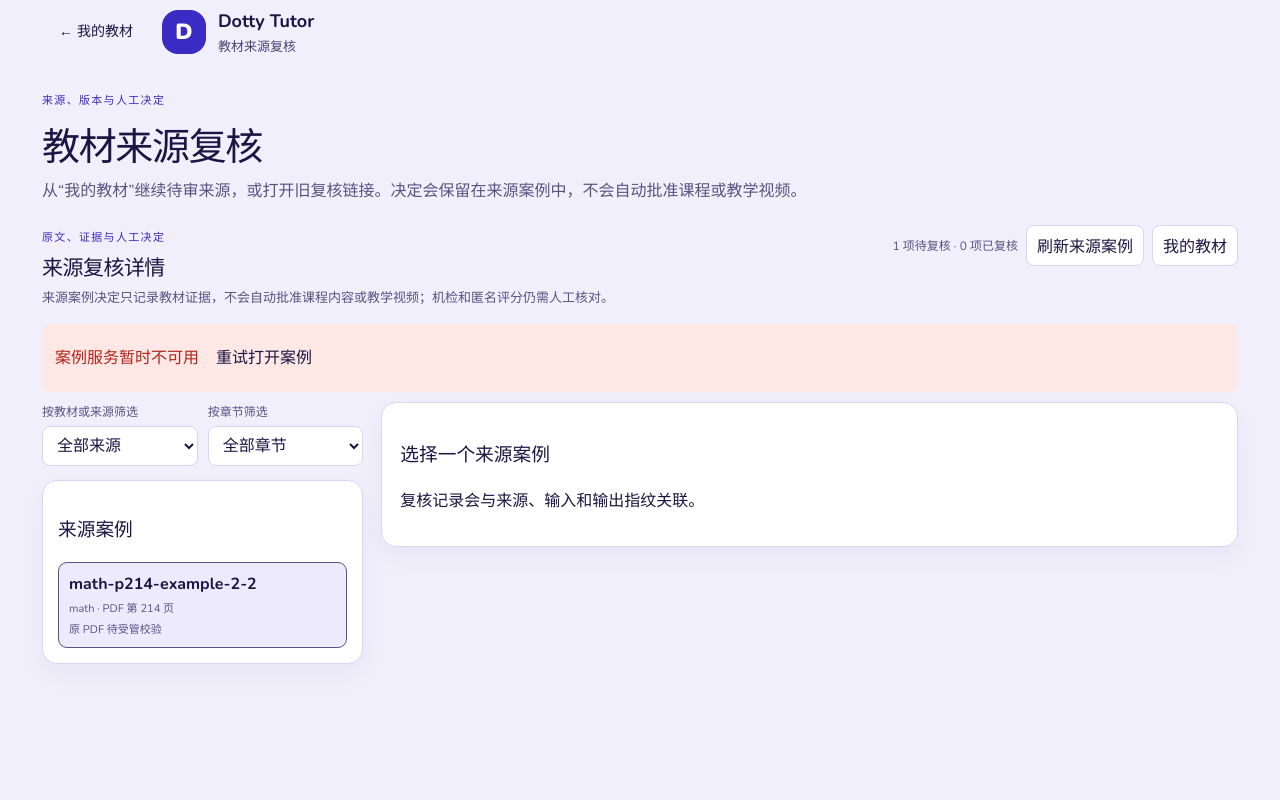
user Given a requested case detail fails When the teacher chooses retry Then the case can be reopened without automatic retries
The image size is (1280, 800).
Expected: the message shows "案例服务暂时不可用", [55,347,199,369]
Step 1. Click the button "重试打开案例" → (264, 358), box [199,335,329,381]
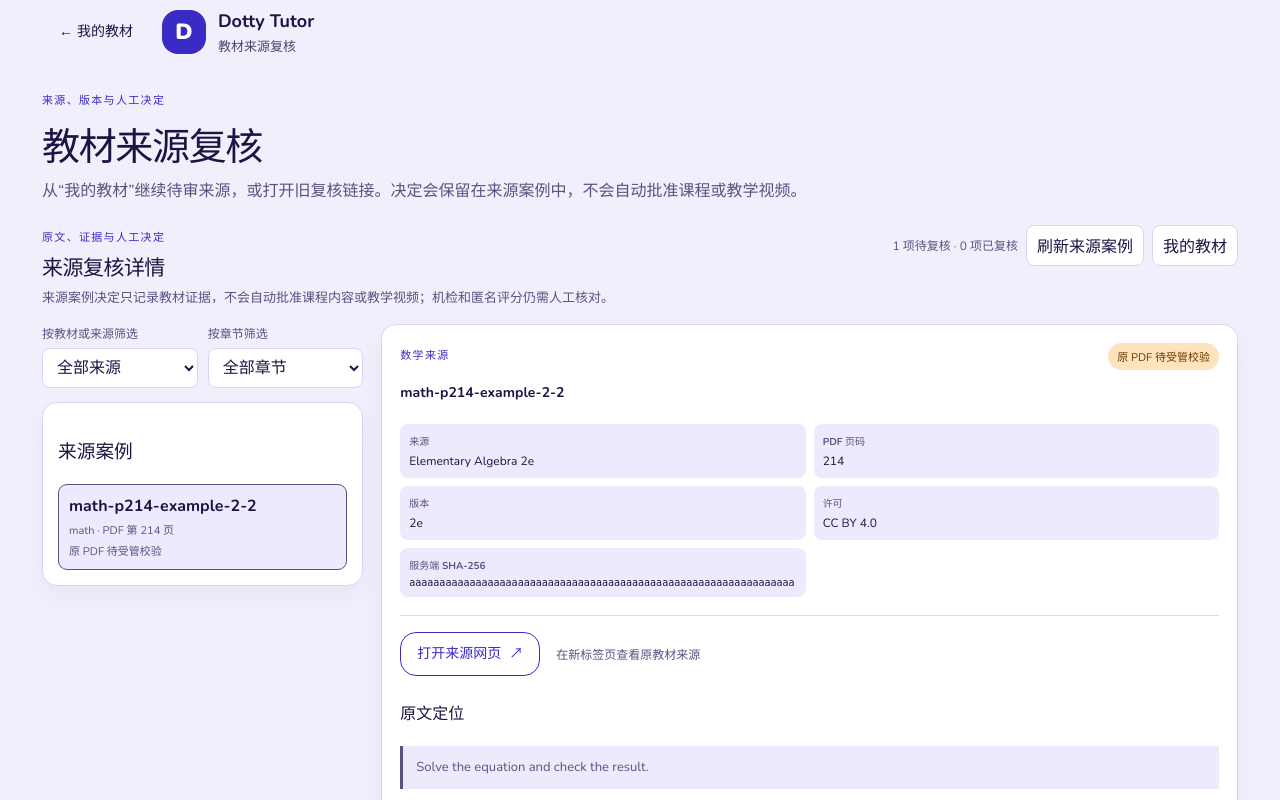
Result: the heading "math-p214-example-2-2" is shown at [400,383,565,402]
